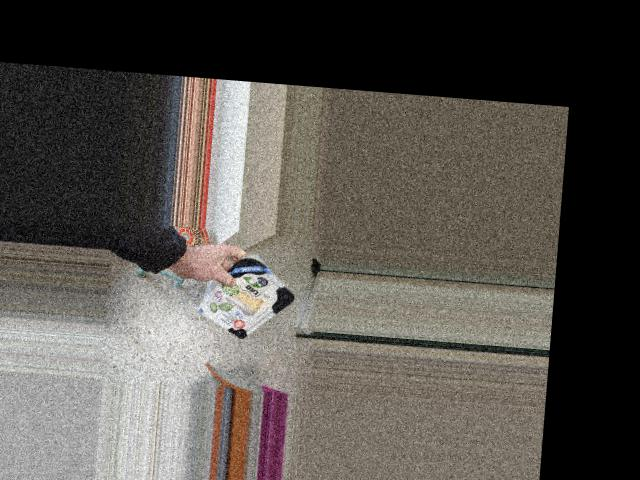cheese: (208, 231, 286, 346)
